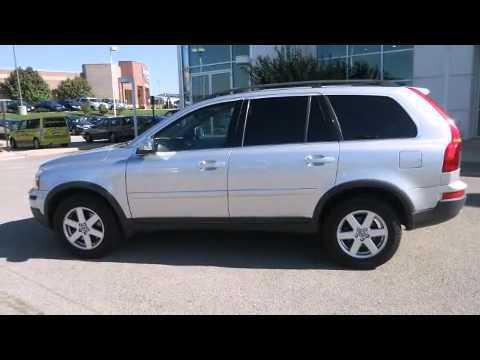Car: (13, 74, 475, 279)
